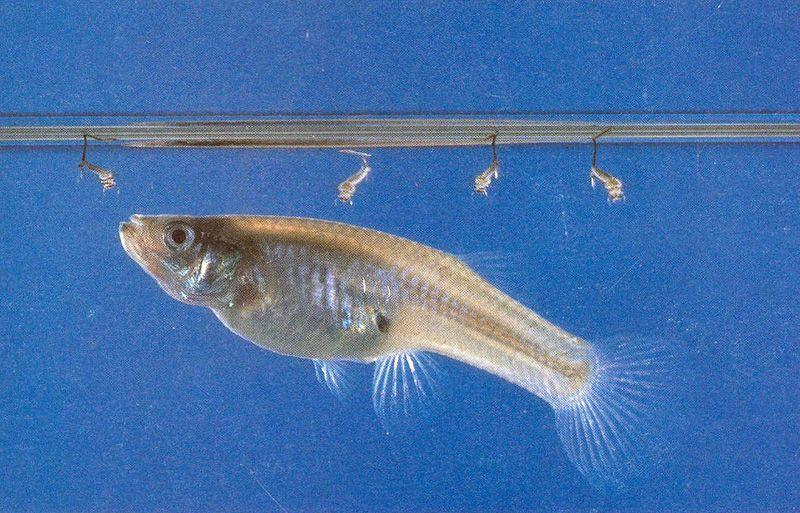Mosquito Fish: (118, 210, 693, 495)
